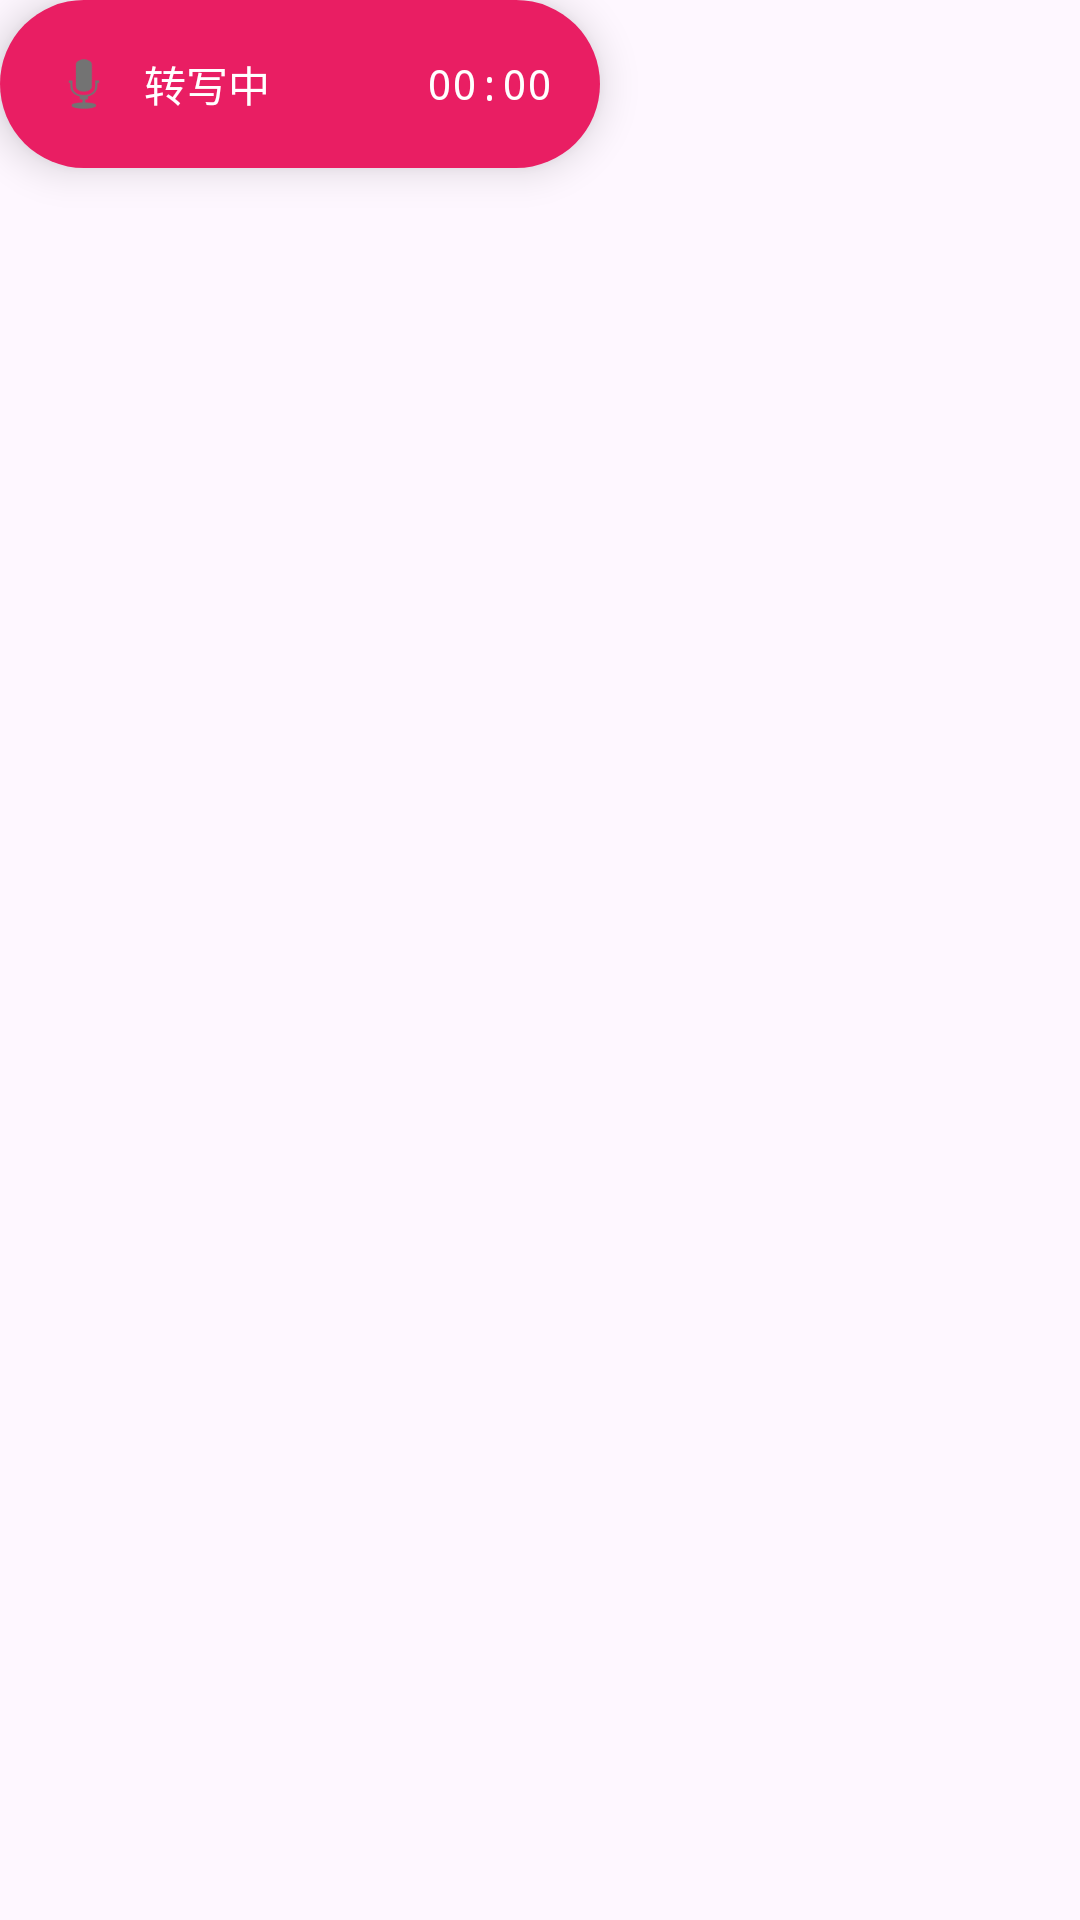

Screen size 1080 × 1920. Icon name, then its center in pixels as point (x, y):
speak now: point (84, 84)
